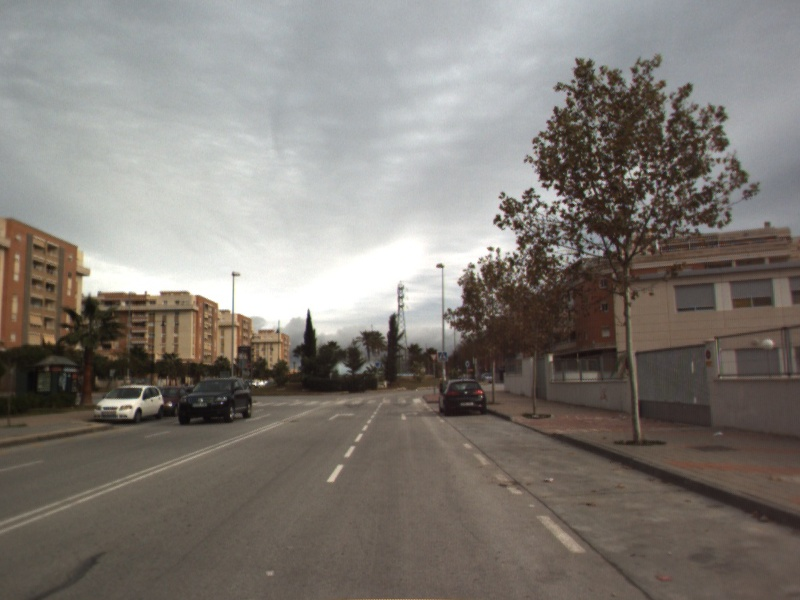RIGHT: (326, 410, 358, 422), (399, 409, 421, 422)
